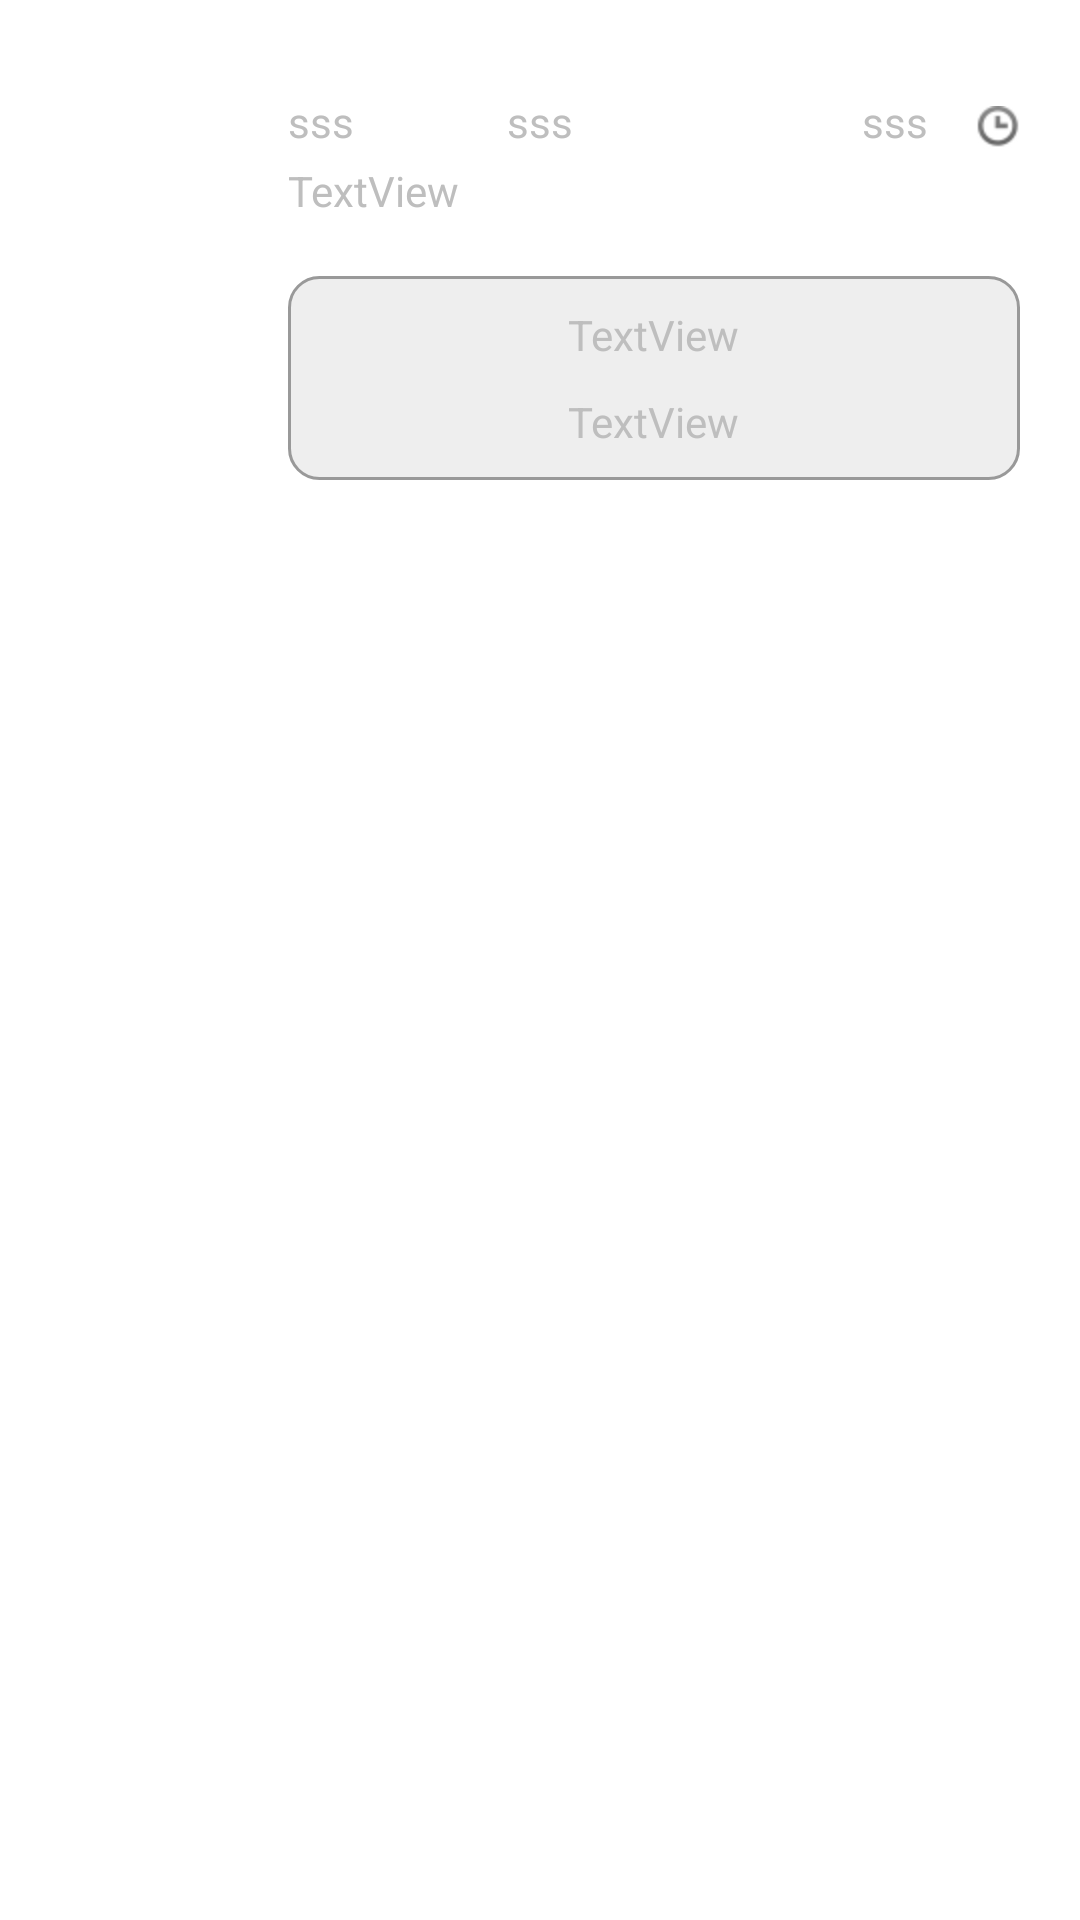

Named icons in this screenshot (1080 x 1920) and their bounding boxes, (left=x1, top=y1, right=x2, bottom=y2):
clock: (left=977, top=106, right=1018, bottom=147)
